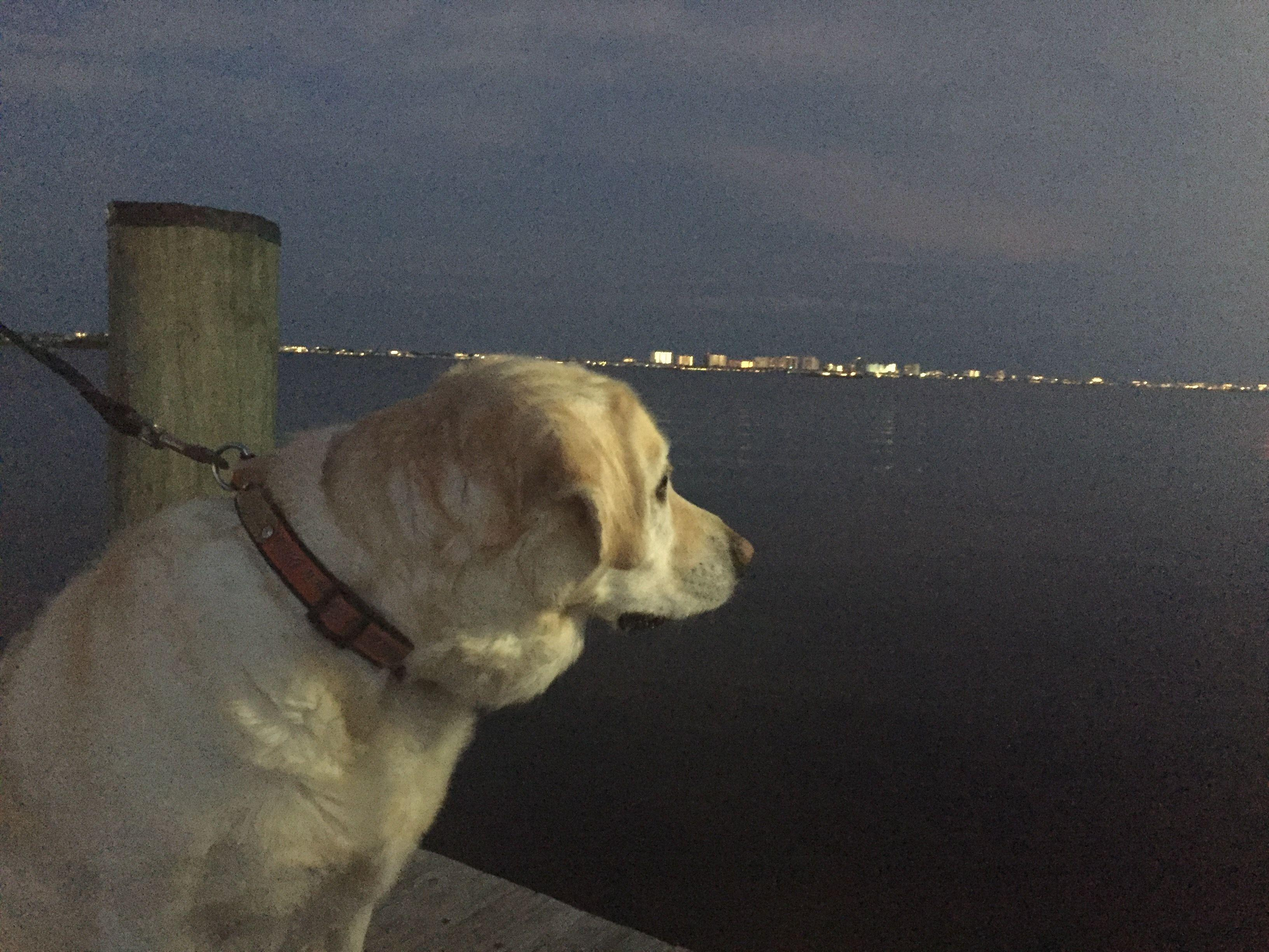adult_dog: (0, 356, 760, 952)
